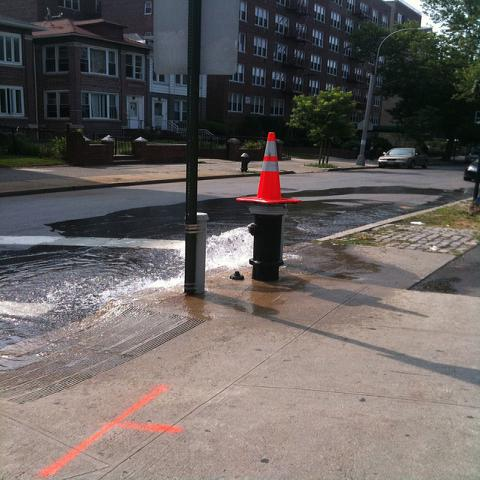car: (377, 148, 430, 169), (463, 156, 480, 182)
